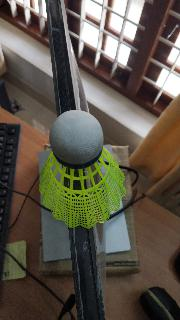shuttlecock: (39, 110, 125, 226)
